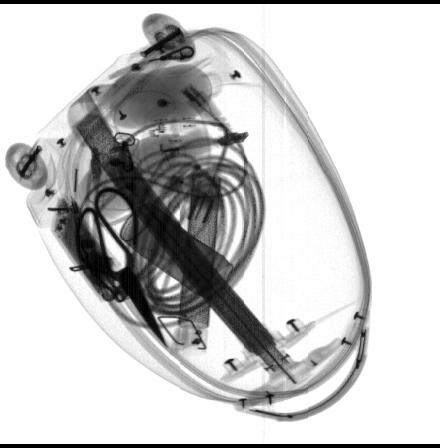Knife: (72, 205, 132, 306)
Powerbank: (47, 192, 135, 309)
Scissors: (74, 188, 168, 354)
